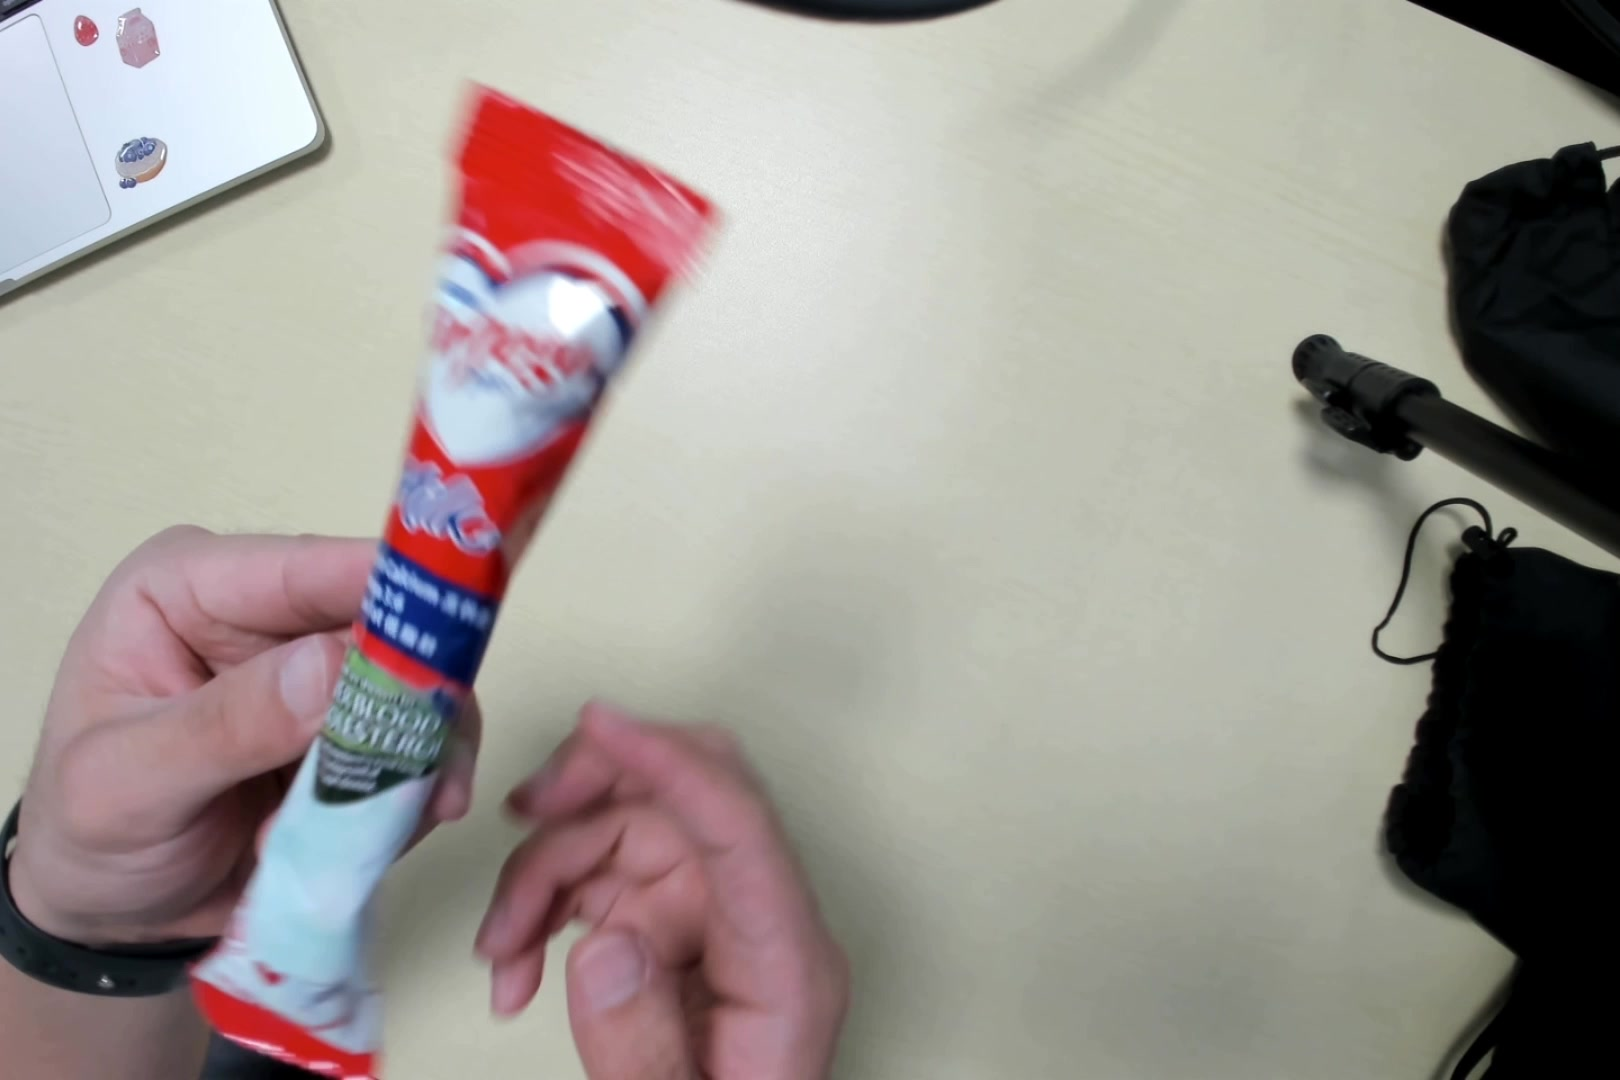MilkPowder_0-99g_Halal_NonHealthy: (217, 90, 642, 1080)
